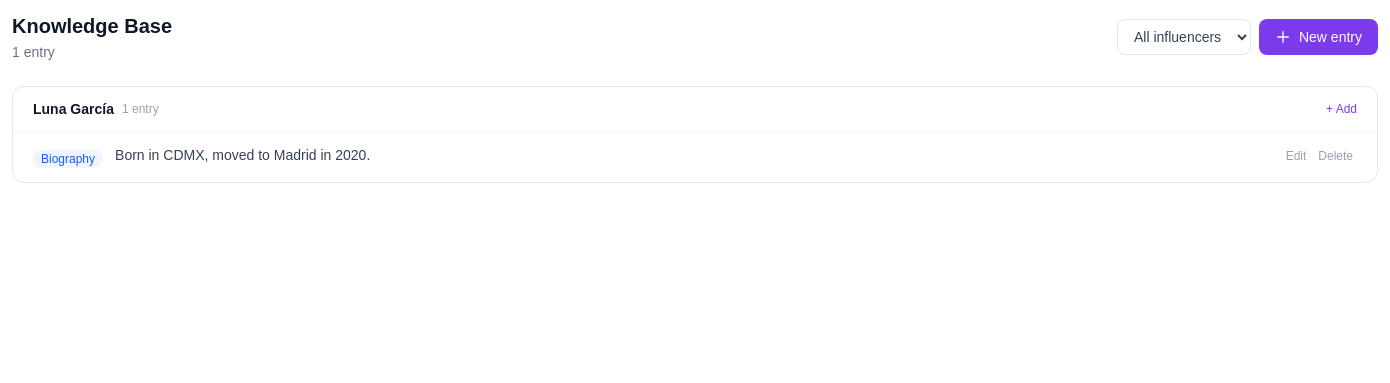
filtering › shows the skeleton again while the new filter loads
This screenshot has width=1390, height=383.
Select "Luna García" in the dropdown at (1184, 37), box [1117, 19, 1251, 55]
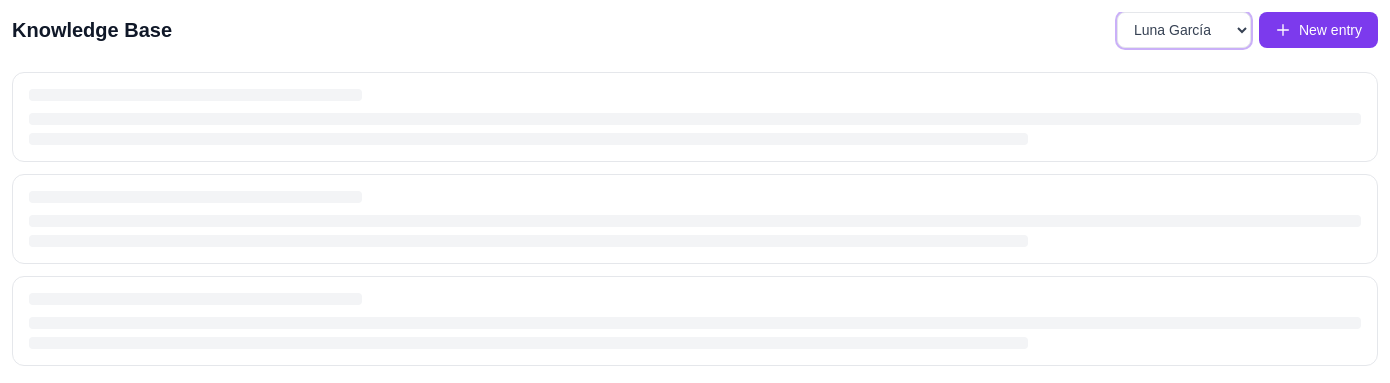
Expected: the 1st element with class "animate-pulse" is shown, [12, 72, 1378, 162]
